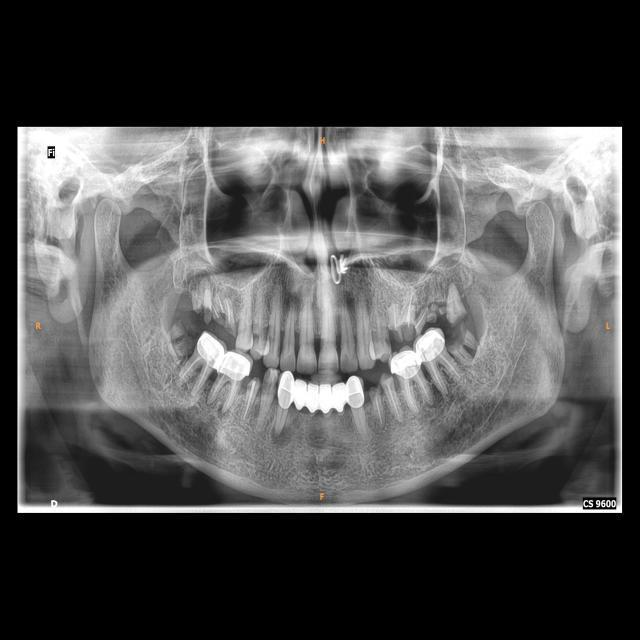dentin-curugu: (442, 321, 474, 356), (193, 282, 213, 321)
kanal-tedavisi: (183, 352, 209, 397), (210, 369, 238, 410), (401, 374, 430, 409), (426, 357, 461, 386), (384, 382, 401, 419), (372, 389, 386, 425), (245, 379, 258, 414), (388, 301, 399, 329), (413, 307, 427, 328), (404, 302, 416, 326)
kaplama: (221, 346, 252, 380), (194, 328, 223, 364), (390, 353, 420, 378), (346, 373, 364, 412), (413, 335, 444, 356), (280, 369, 294, 411)
kirik: (215, 296, 236, 336), (390, 325, 420, 343), (367, 378, 385, 402), (246, 370, 263, 393), (377, 372, 396, 390)
